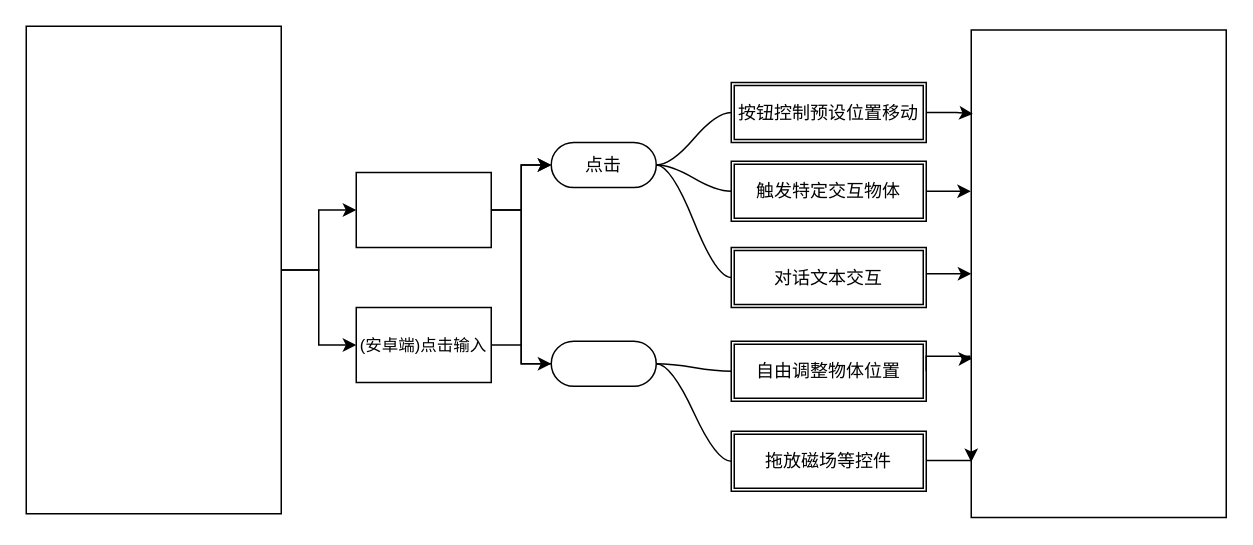
Image size: 1253x545. Some labels were removed from this diagram. The centre of each missing label's shape, as x and y in pixels:
(PC端)鼠标输入: pixel 423 209
Game: pixel 1098 273
User: pixel 153 269
滑动: pixel 603 363
